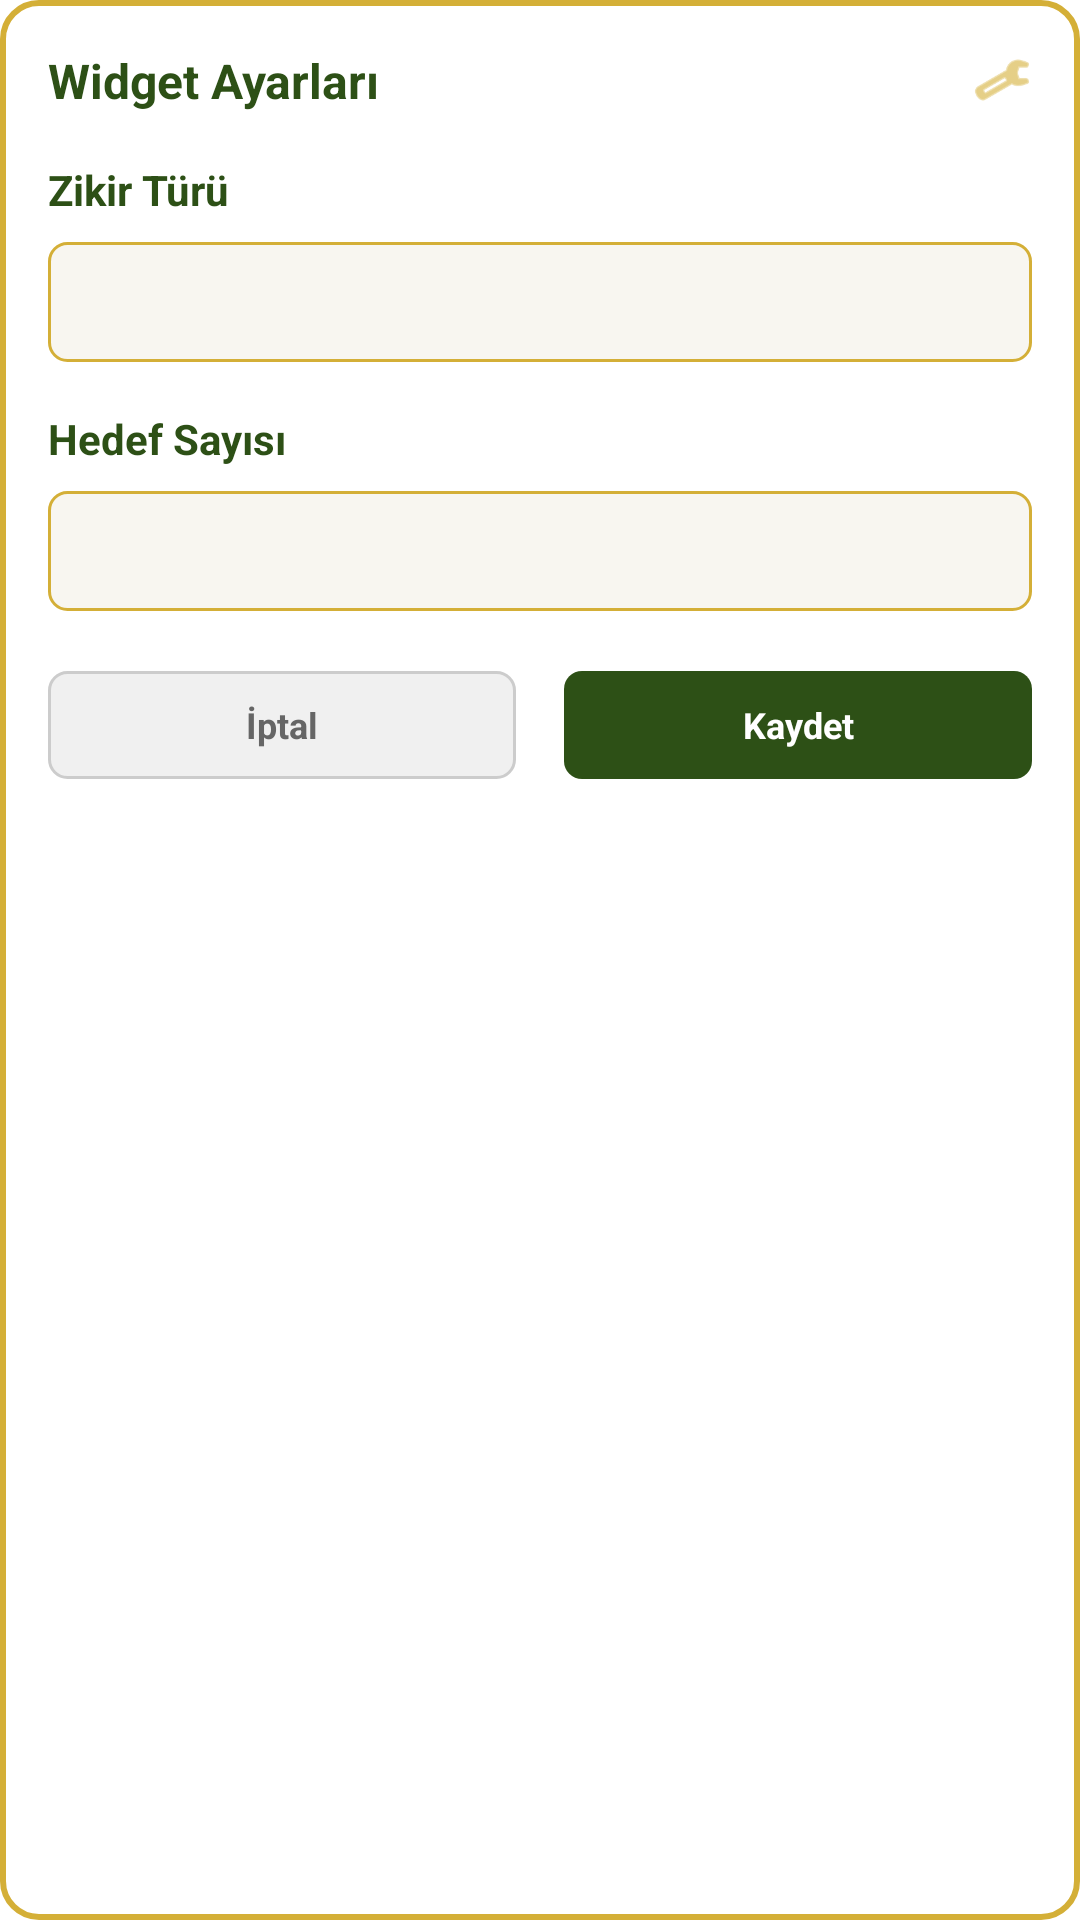

Screen size 1080 × 1920. Icon name, then its center in pixels as (x=x, y=y):
preferences: (x=1002, y=80)
